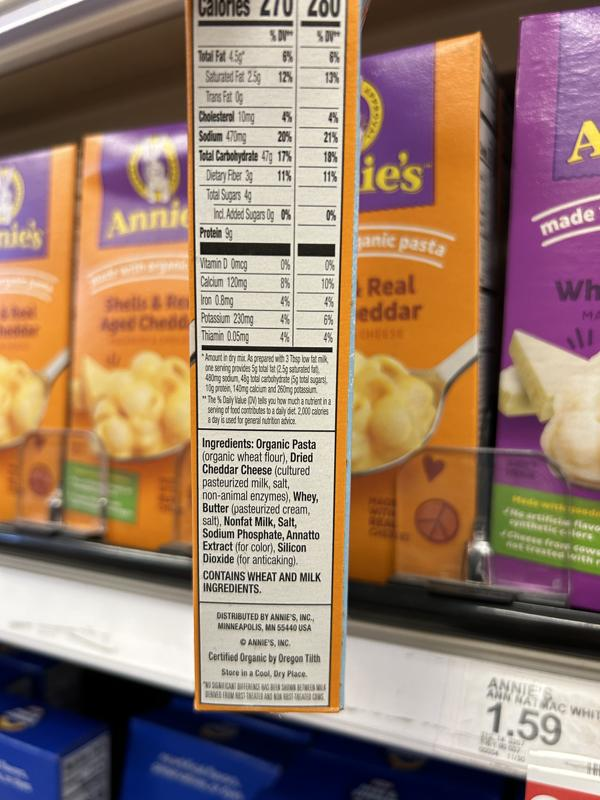ingredients: (200, 436, 324, 567)
